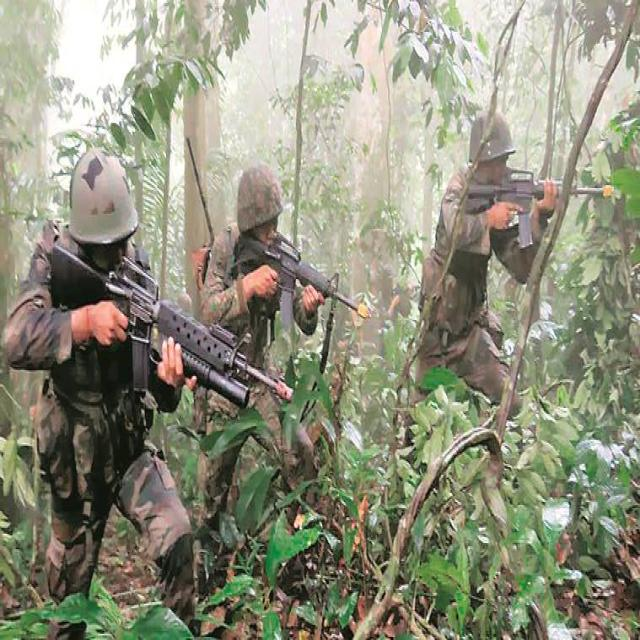Forest: (1, 0, 640, 640)
Militant: (0, 104, 198, 640), (180, 128, 353, 563), (402, 98, 568, 490)
